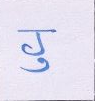u_matra: (19, 57, 52, 73)
